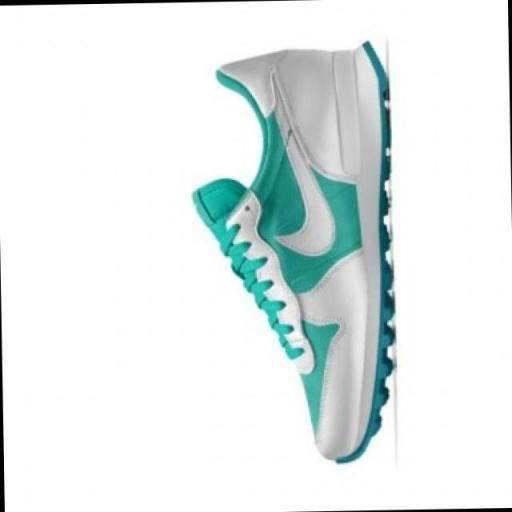Nike: (264, 70, 342, 260)
